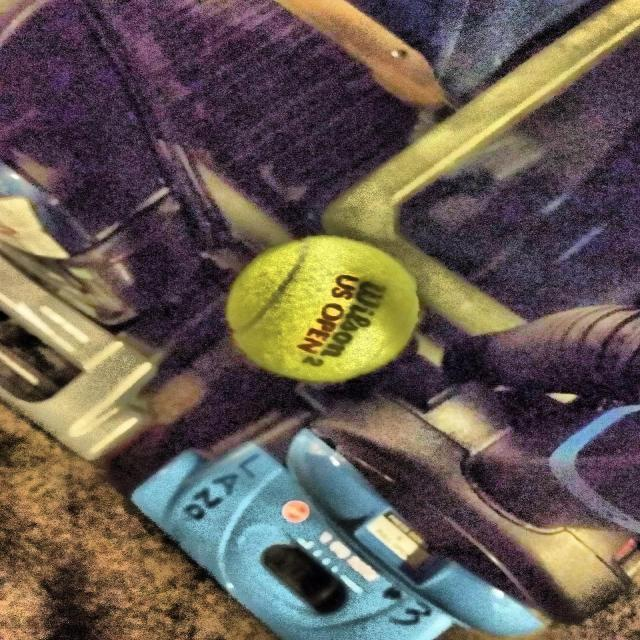tennis-ball: (227, 237, 425, 386)
